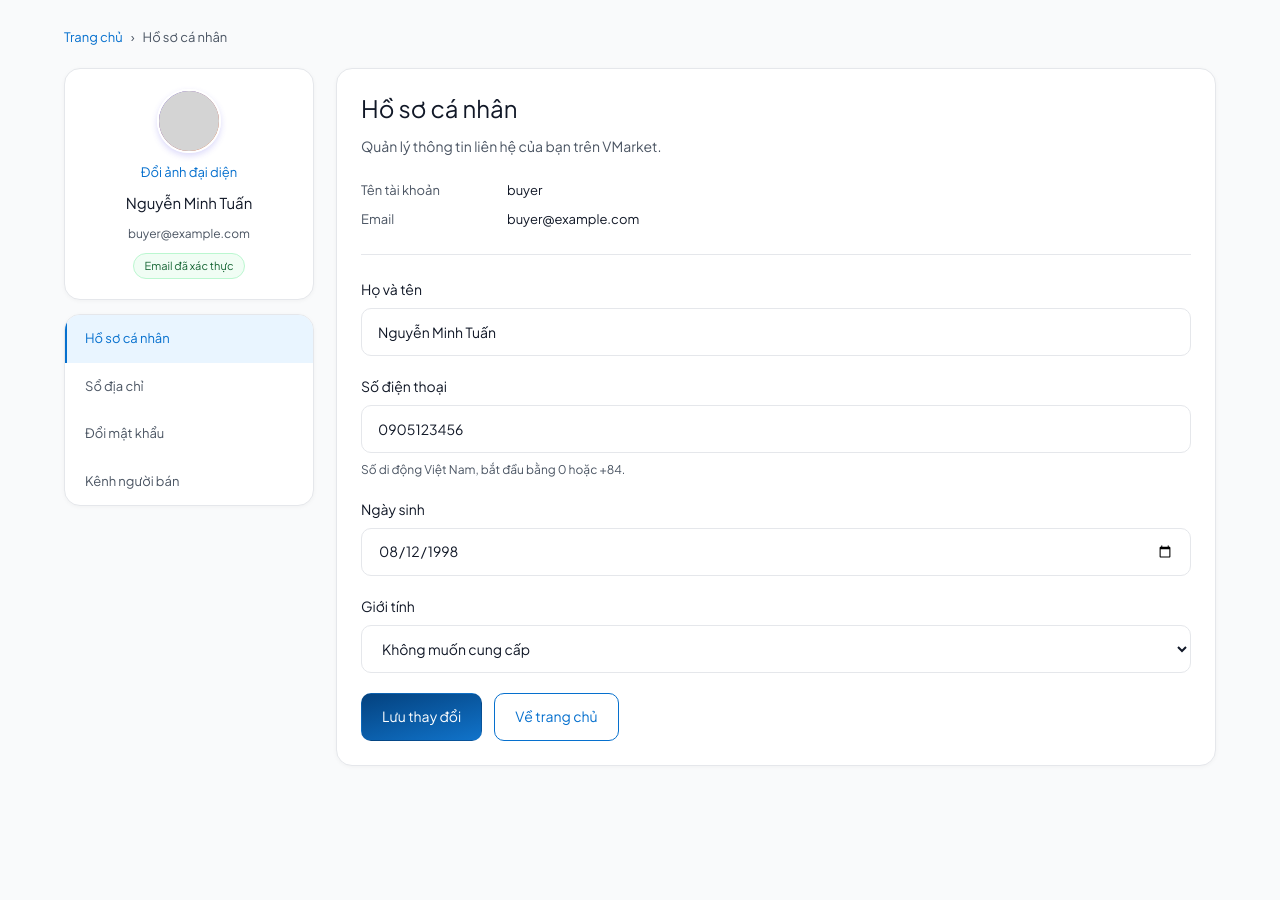
Test: Change avatar dialog › opens a dialog with the current avatar URL
Click the button "Đổi ảnh đại diện" at (189, 172), box [141,162,237,182]
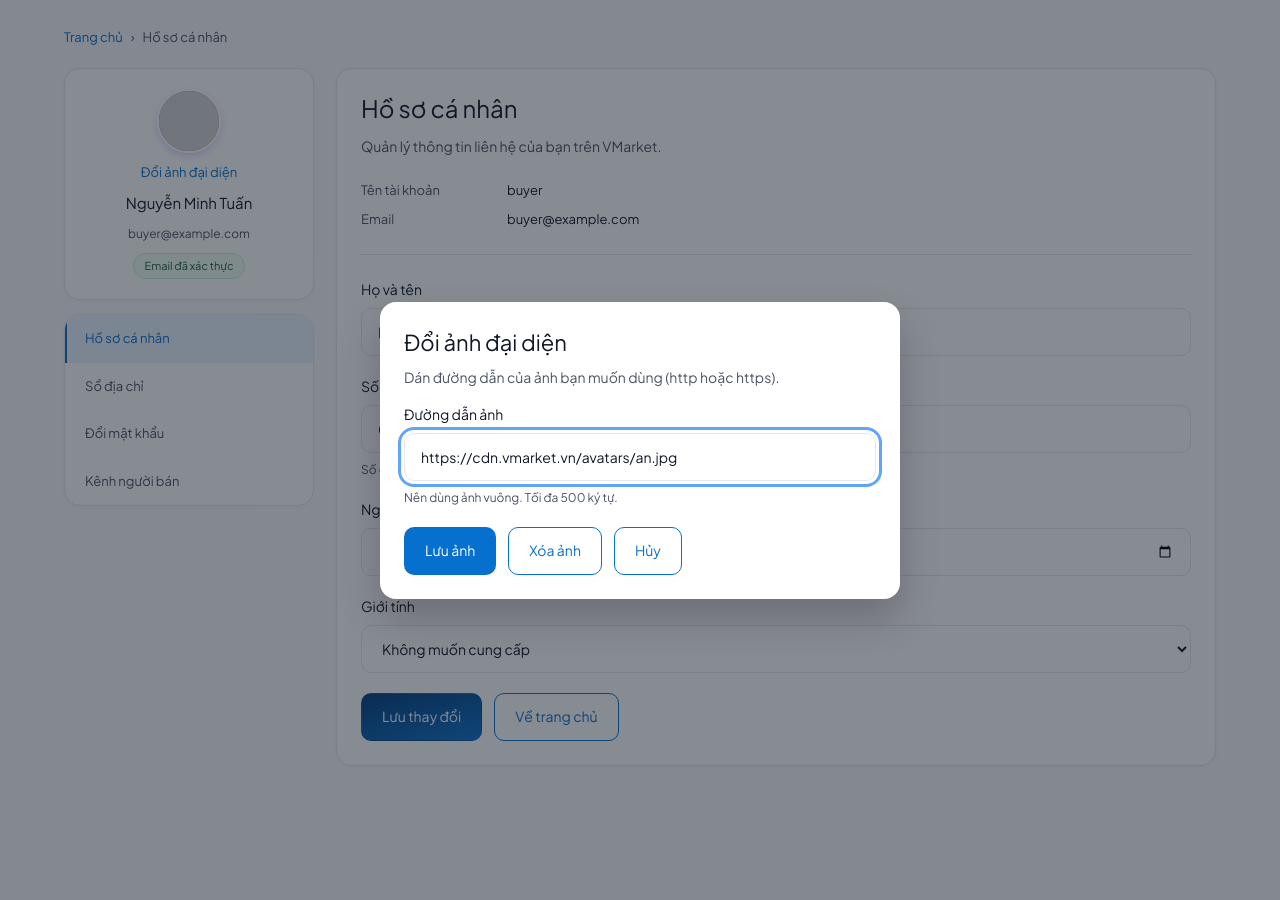
Expected: the dialog "Đổi ảnh đại diện" is shown, [380,302,900,598]
Expected: the field labelled "Đường dẫn ảnh" holds "https://cdn.vmarket.vn/avatars/an.jpg", [404,432,876,480]
